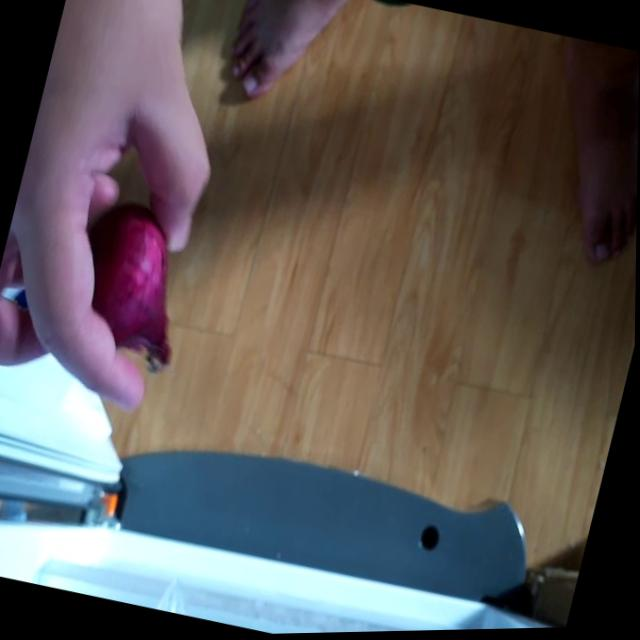onion: (69, 198, 202, 379)
